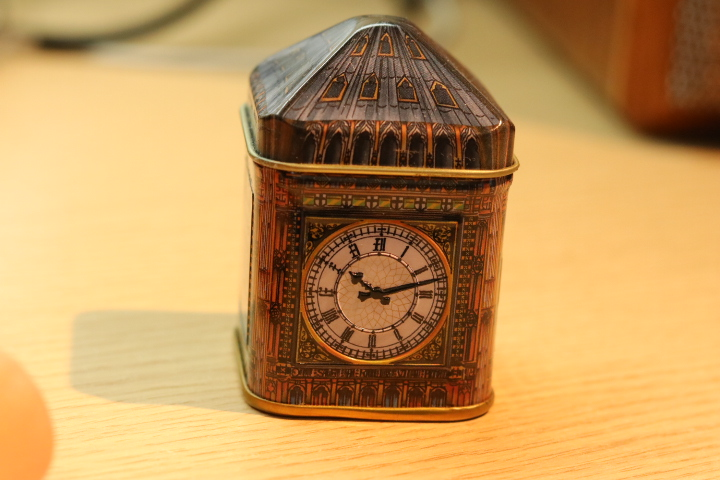Big Ben: (221, 5, 527, 438)
